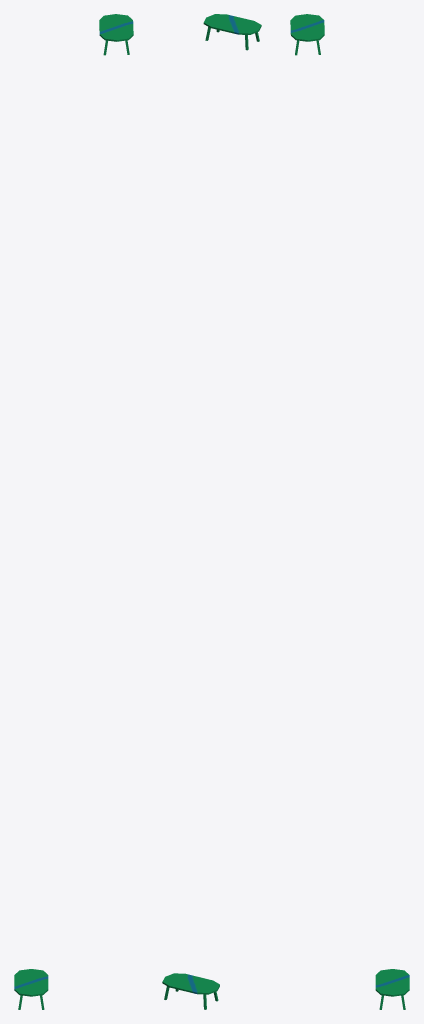
File: coffee_tables.glb
The picture shows the model from 3 angles, left to right: view 1: azimuth 90°, elevation 25°; view 2: azimuth 150°, elevation 25°; view 3: azimuth 270°, elevation 25°; orthographic projection. The views are drawn at different scales.
Visible parts, largest first — view 1: coffee_table.001; view 2: coffee_table.001; view 3: coffee_table.001.
Part boxes in pixels (bbox=[...]): coffee_table.001: bbox=[14, 14, 133, 1009]; coffee_table.001: bbox=[162, 14, 261, 1009]; coffee_table.001: bbox=[290, 14, 409, 1009].
Size of the model in its own units: 1.75 by 30.24 by 3.36.
Materials: 1 (1 with a texture image).
